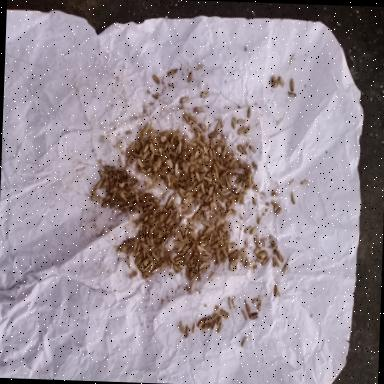pbw: (114, 178, 125, 190), (204, 222, 214, 234), (188, 155, 195, 172), (138, 223, 146, 237), (182, 324, 190, 338), (219, 308, 230, 318), (193, 162, 204, 172), (197, 316, 206, 328), (272, 284, 280, 297), (184, 247, 192, 260), (210, 234, 220, 244), (236, 144, 246, 154), (228, 248, 238, 258), (94, 178, 103, 189), (182, 195, 193, 204), (219, 250, 226, 264), (224, 173, 231, 187), (215, 248, 221, 264), (226, 199, 234, 211), (165, 157, 173, 169), (157, 226, 165, 238), (161, 235, 169, 247), (165, 194, 173, 206), (272, 255, 280, 267), (174, 130, 182, 142), (236, 189, 243, 202), (215, 118, 222, 131), (222, 154, 231, 164), (256, 249, 266, 258), (134, 203, 143, 213), (192, 209, 200, 220), (253, 237, 261, 248), (173, 263, 181, 274), (220, 168, 231, 176), (104, 164, 116, 171), (200, 131, 207, 143), (290, 190, 296, 204), (206, 231, 212, 245), (232, 162, 239, 174), (188, 278, 195, 290), (176, 140, 182, 154), (177, 187, 186, 196), (222, 220, 232, 228), (142, 148, 150, 158), (136, 157, 144, 167), (152, 74, 160, 84), (195, 244, 203, 254), (174, 161, 179, 177), (237, 124, 245, 134), (156, 257, 164, 267), (188, 230, 196, 240), (164, 200, 174, 208), (260, 255, 268, 265), (202, 248, 212, 256), (240, 310, 248, 320), (178, 224, 184, 237), (211, 169, 217, 182), (240, 251, 246, 264), (230, 116, 236, 129), (171, 227, 177, 240), (174, 210, 180, 223), (245, 303, 251, 316), (197, 255, 210, 261), (172, 188, 178, 201), (222, 145, 228, 158), (241, 336, 248, 347), (269, 235, 276, 246), (165, 213, 172, 224), (282, 262, 288, 274), (142, 257, 150, 266), (103, 177, 111, 186), (210, 318, 216, 330), (166, 68, 178, 74), (155, 156, 161, 168), (98, 169, 107, 177), (192, 182, 200, 191), (276, 252, 284, 261), (126, 154, 132, 166), (269, 74, 275, 86), (182, 244, 190, 253), (127, 246, 133, 258), (165, 174, 171, 186), (180, 160, 186, 172), (256, 298, 262, 310), (128, 270, 136, 279), (229, 156, 235, 168), (252, 295, 260, 304), (227, 296, 233, 308), (145, 234, 151, 246), (220, 184, 230, 191), (289, 77, 294, 91), (188, 267, 195, 277), (192, 105, 202, 112), (171, 239, 181, 246), (198, 262, 208, 269), (200, 219, 210, 226), (179, 96, 189, 103), (270, 200, 280, 207), (170, 132, 176, 143), (160, 247, 166, 258), (176, 230, 182, 241), (236, 157, 242, 168), (110, 190, 116, 201), (207, 132, 218, 138), (125, 255, 130, 268), (187, 70, 192, 83), (244, 226, 252, 234), (200, 90, 208, 98), (126, 177, 134, 185), (148, 225, 156, 233), (238, 247, 246, 255), (195, 190, 203, 198), (136, 220, 144, 228), (248, 144, 256, 152), (150, 266, 158, 274), (210, 214, 218, 222), (204, 316, 212, 324), (132, 180, 140, 188), (151, 252, 159, 260), (153, 206, 161, 214), (244, 164, 252, 172), (127, 238, 135, 246), (238, 173, 247, 180), (166, 248, 175, 255), (287, 90, 296, 97), (174, 258, 184, 264), (194, 171, 200, 181), (143, 142, 149, 152), (243, 140, 249, 150), (108, 186, 118, 192), (152, 136, 158, 146), (122, 169, 128, 179), (158, 212, 164, 222), (208, 271, 214, 281), (207, 156, 212, 168), (218, 228, 224, 238), (177, 262, 187, 268), (137, 128, 142, 140), (184, 266, 189, 278), (156, 170, 166, 176), (216, 139, 226, 145), (198, 234, 208, 240), (172, 172, 178, 182), (248, 312, 258, 318), (90, 194, 100, 200), (212, 148, 217, 160), (216, 316, 222, 326), (162, 206, 172, 212), (185, 190, 195, 196), (208, 184, 213, 196), (278, 76, 284, 86), (153, 161, 158, 173), (148, 152, 154, 162), (222, 247, 228, 257), (173, 255, 183, 261), (200, 182, 205, 194), (176, 244, 183, 252), (188, 218, 196, 225), (218, 188, 225, 196), (184, 237, 192, 244), (131, 150, 139, 157), (249, 226, 256, 234), (179, 173, 186, 181), (189, 115, 197, 122), (162, 129, 170, 136), (114, 198, 122, 205), (215, 218, 222, 226), (228, 241, 236, 248), (102, 194, 110, 201), (274, 207, 282, 214), (168, 150, 176, 157), (133, 240, 138, 251), (182, 149, 187, 160), (183, 112, 189, 121), (229, 192, 238, 198), (188, 140, 197, 146), (274, 79, 280, 88), (142, 126, 148, 135), (236, 118, 245, 124), (186, 261, 195, 267), (100, 202, 109, 208), (153, 237, 162, 243), (144, 193, 153, 199), (200, 205, 209, 211), (135, 256, 141, 265), (138, 168, 147, 174), (184, 159, 188, 172), (195, 259, 199, 272), (267, 244, 277, 249), (226, 243, 231, 253), (149, 129, 154, 139), (146, 201, 156, 206), (139, 262, 144, 272), (212, 162, 217, 172), (127, 197, 134, 204), (196, 64, 204, 70), (247, 106, 251, 118), (244, 256, 250, 264), (200, 172, 206, 180), (238, 162, 246, 168), (212, 190, 216, 202), (216, 146, 222, 154), (209, 137, 213, 149), (121, 188, 129, 194), (148, 245, 156, 251), (178, 180, 186, 186), (198, 140, 204, 148), (244, 126, 250, 134), (300, 178, 308, 184), (122, 240, 130, 246), (168, 255, 174, 263), (194, 150, 200, 158), (252, 184, 258, 192), (198, 268, 206, 274), (255, 256, 263, 262), (145, 252, 151, 260), (178, 150, 184, 158), (168, 220, 174, 228), (150, 258, 154, 270), (187, 224, 195, 230), (191, 136, 199, 142), (150, 219, 158, 225), (136, 201, 145, 206), (203, 176, 212, 181), (225, 152, 234, 157), (132, 140, 136, 151), (219, 166, 230, 170), (150, 142, 154, 153), (136, 140, 140, 151), (190, 172, 194, 183), (218, 155, 222, 166), (212, 229, 218, 236), (204, 195, 210, 202), (233, 178, 240, 184), (120, 245, 126, 252), (250, 162, 256, 169), (143, 264, 150, 270), (199, 124, 206, 130), (244, 178, 249, 186), (192, 322, 196, 332), (144, 212, 148, 222), (164, 140, 168, 150), (116, 172, 121, 180), (190, 122, 194, 132), (165, 150, 170, 158), (158, 146, 162, 156), (182, 224, 186, 234), (149, 236, 153, 246), (202, 210, 206, 220), (170, 178, 175, 186), (136, 241, 140, 251), (208, 148, 213, 156), (186, 119, 194, 124), (209, 201, 213, 211), (135, 192, 139, 202), (142, 248, 146, 258), (144, 224, 148, 234), (211, 244, 219, 249), (198, 228, 202, 238), (123, 204, 133, 208), (146, 204, 152, 210), (134, 250, 140, 256), (158, 222, 164, 228), (242, 180, 246, 189), (140, 136, 144, 145), (139, 236, 145, 242), (192, 146, 201, 150), (183, 140, 187, 149), (142, 270, 146, 279), (224, 238, 231, 243), (204, 146, 208, 154), (185, 228, 189, 236), (152, 214, 156, 222), (204, 166, 208, 174), (139, 148, 143, 156), (244, 264, 252, 268), (212, 130, 220, 134), (196, 129, 200, 137), (212, 181, 218, 186), (171, 158, 176, 164), (218, 179, 222, 186), (200, 242, 207, 246), (154, 229, 161, 233), (252, 198, 256, 204), (250, 175, 254, 181), (248, 176, 251, 184), (145, 272, 151, 276), (248, 182, 254, 186), (145, 276, 150, 280)
